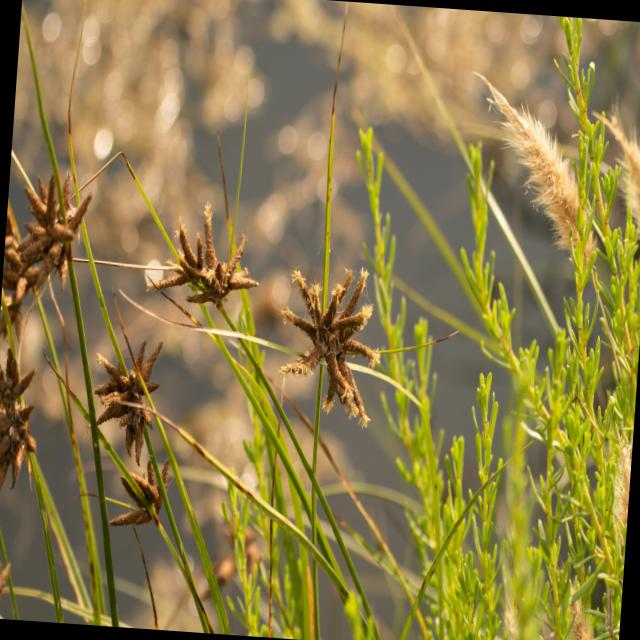cyperus: (0, 155, 90, 622), (265, 243, 385, 422), (78, 326, 178, 522), (145, 192, 254, 322)
